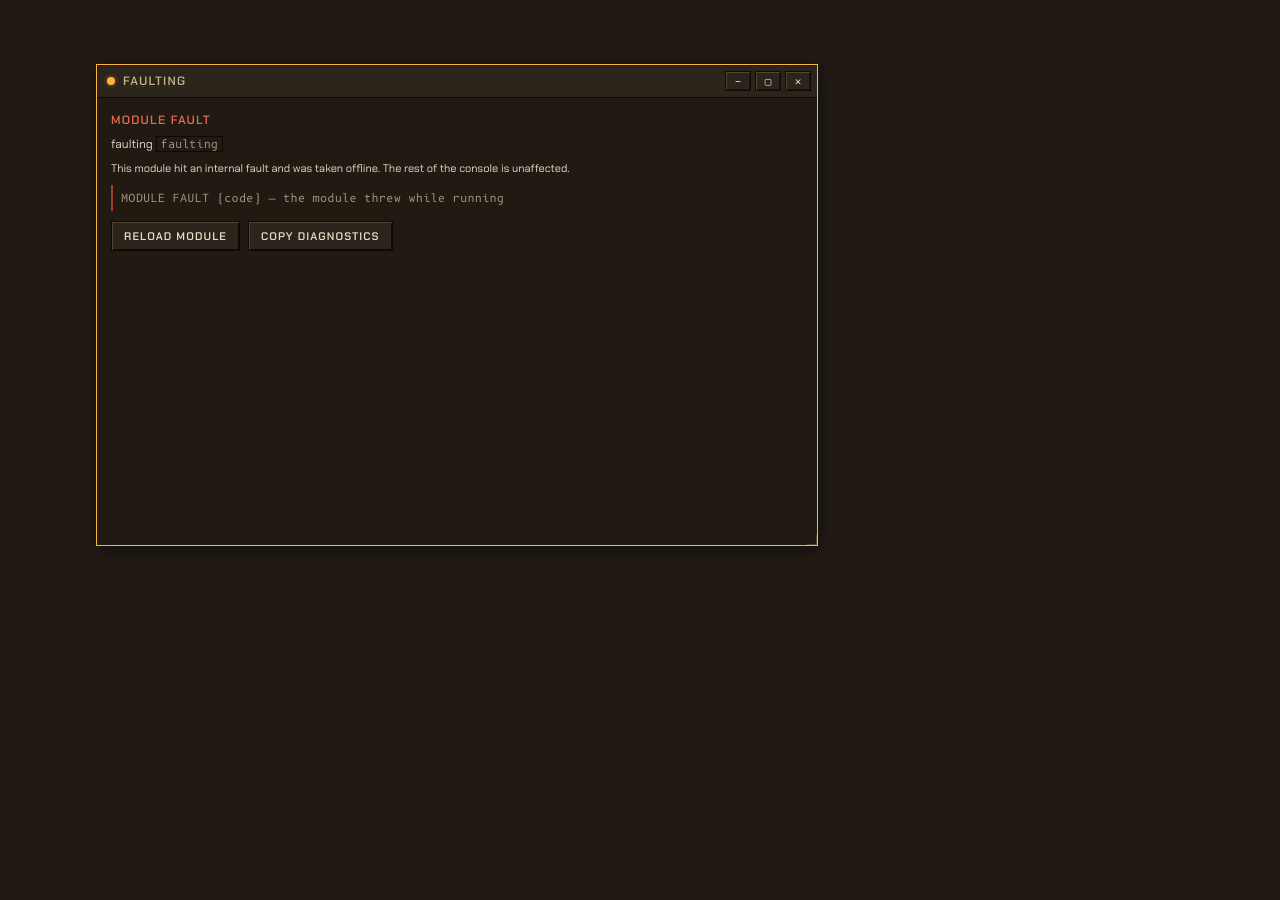
AppBoundary · a thrown app error isolates to its window › reports copied when the async clipboard works
Check: the message is shown, box [97, 98, 817, 545]
Click the button "Copy diagnostics" at (320, 236), box [248, 220, 393, 250]
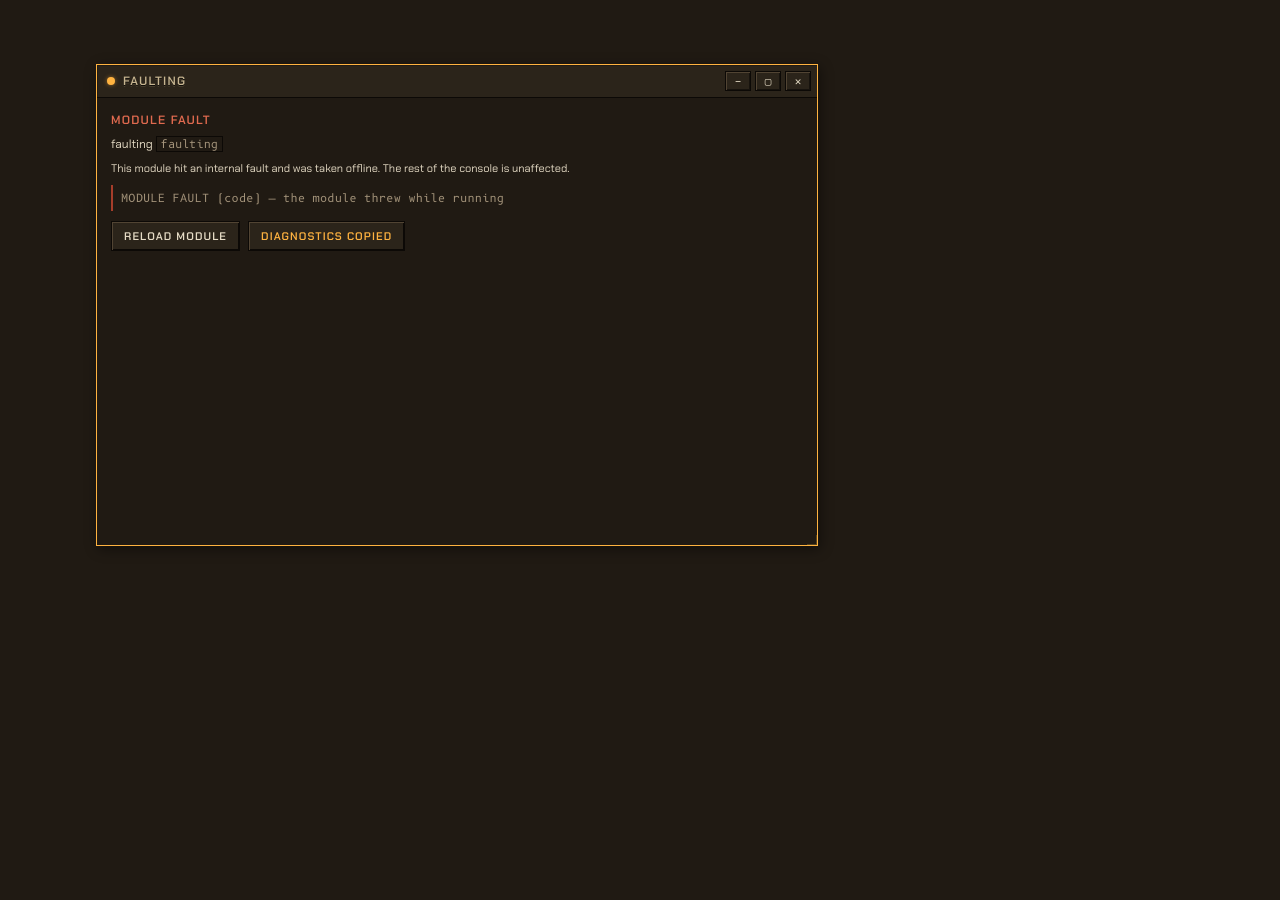
Check: the button "Diagnostics copied" is shown, box [248, 220, 405, 250]
